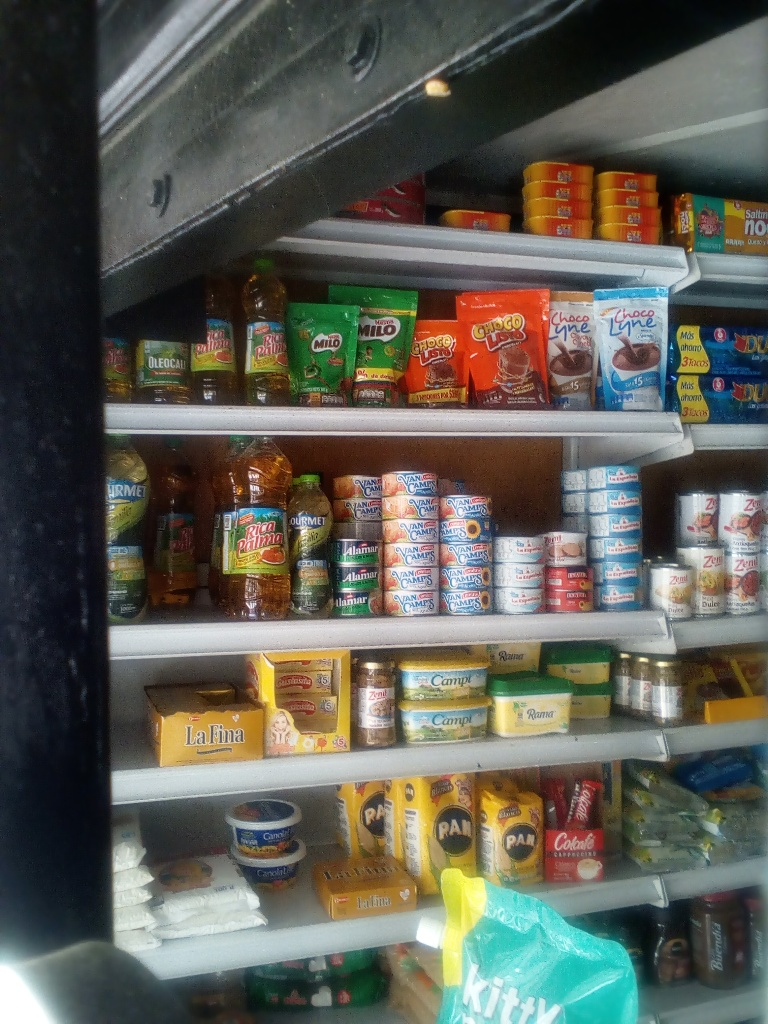COL0170203DYP10000: (280, 301, 352, 405)
